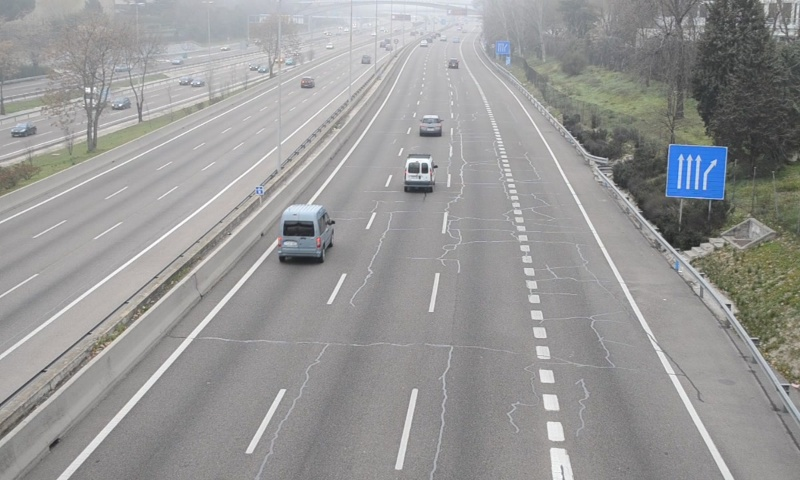car: (418, 114, 444, 138)
van: (279, 206, 332, 259), (403, 155, 434, 191)
